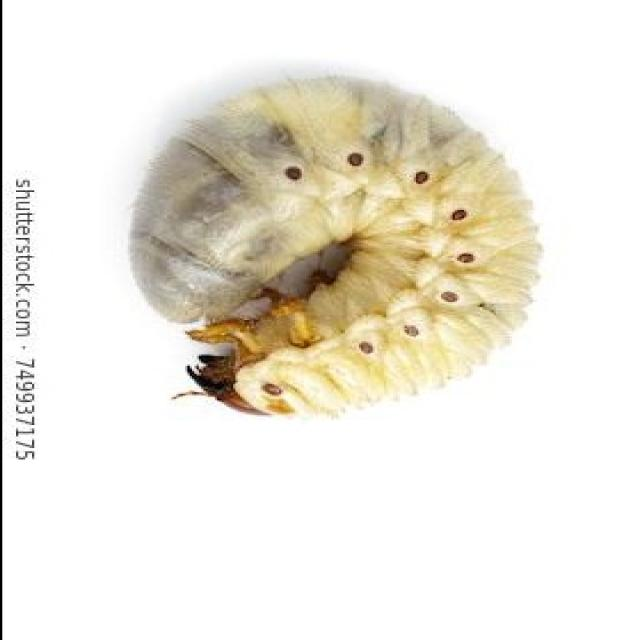grub: (131, 75, 543, 416)
